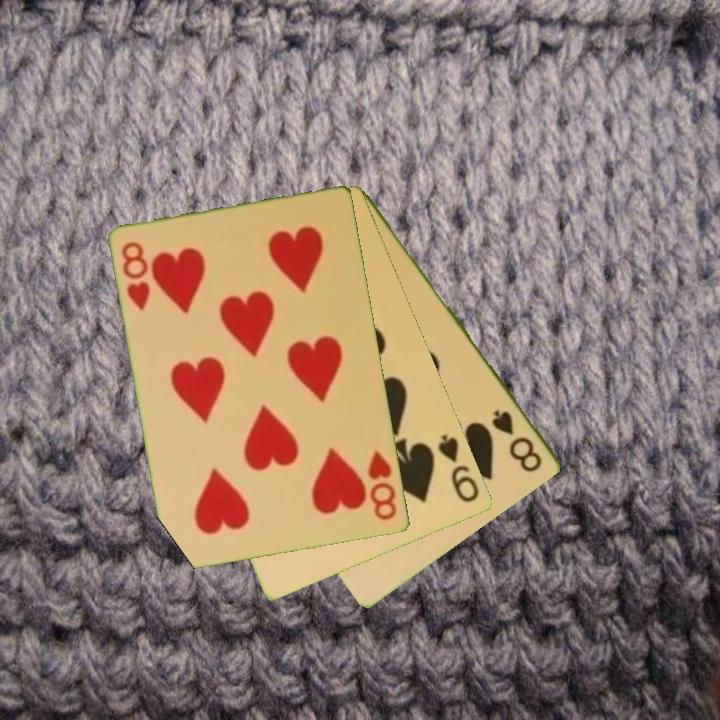8h: (118, 238, 154, 314), (365, 447, 400, 524)
8s: (488, 406, 546, 476)
9s: (435, 431, 483, 506)
